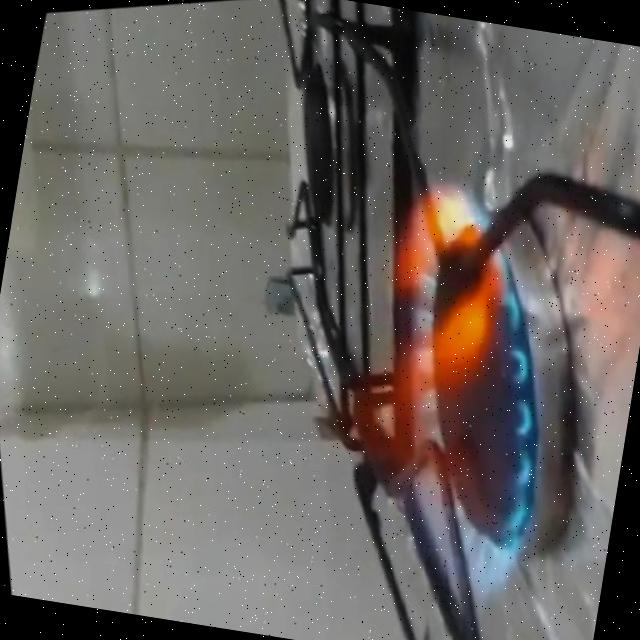fire: (232, 133, 632, 640)
